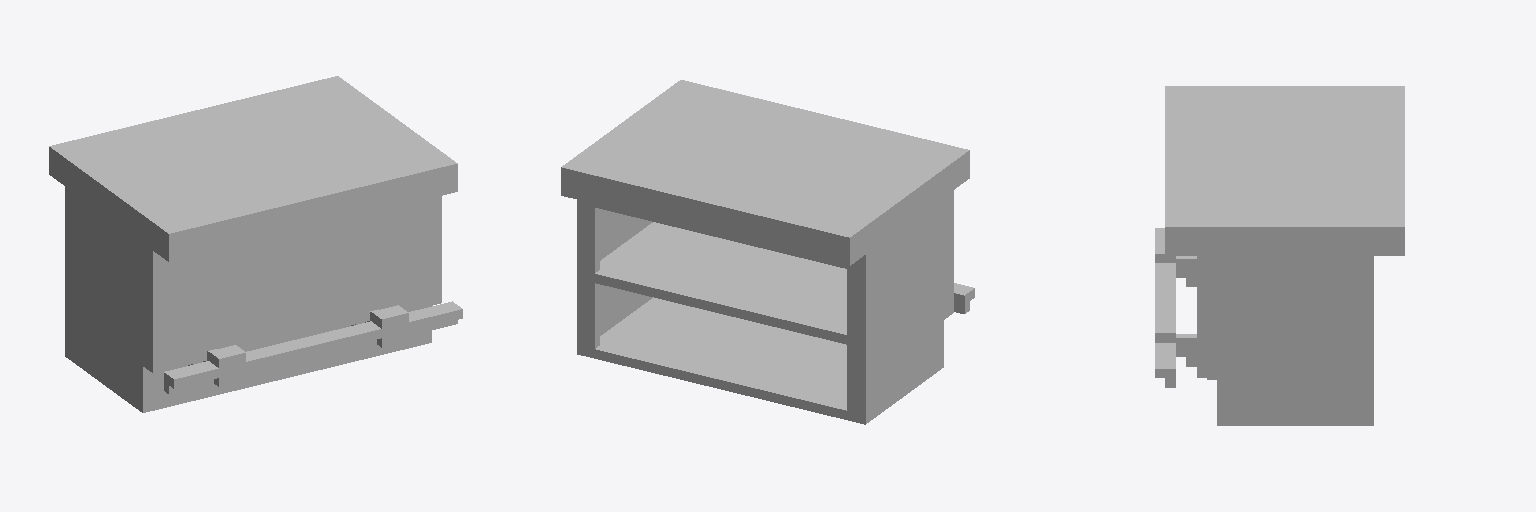
3 views of the same model, side by side, from view 1: azimuth 30°, elevation 25°; view 2: azimuth 150°, elevation 25°; view 3: azimuth 270°, elevation 25° (orthographic).
Visible parts, largest first — view 1: AnyConv; view 2: AnyConv; view 3: AnyConv.
Boxes of the visible parts, <box> form: AnyConv: <box>49,76,462,412</box>; AnyConv: <box>561,80,974,424</box>; AnyConv: <box>1155,86,1404,425</box>.
Size of the model in its own units: 3.2 by 2.1 by 2.4.